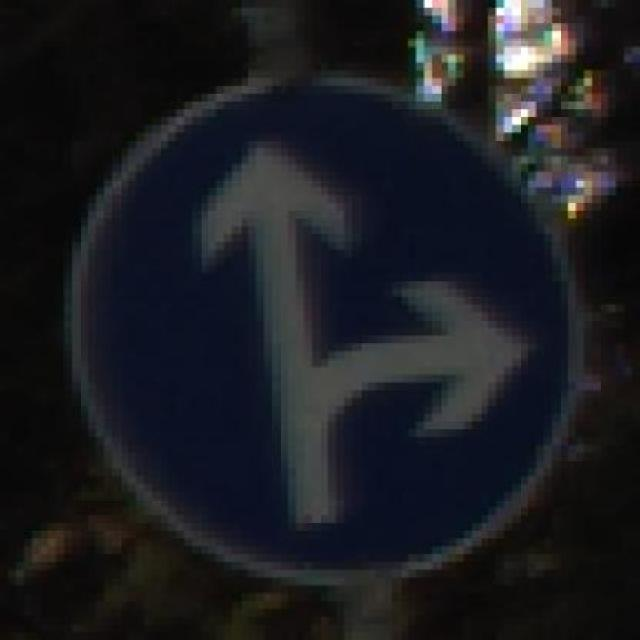Go Straight or Turn Right: (48, 78, 600, 578)
